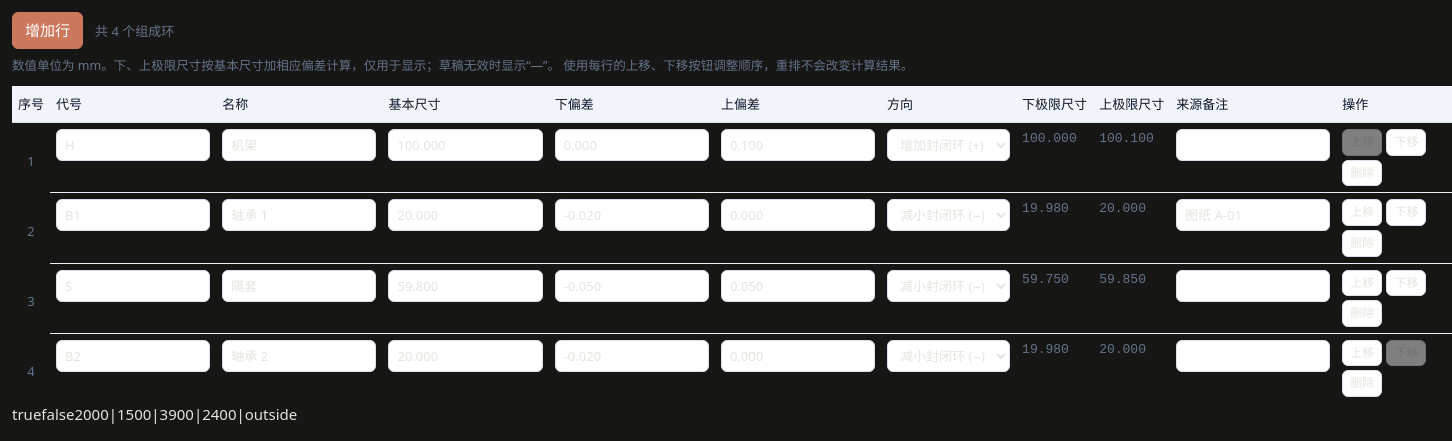
Scenario: DimensionTable：方向、重排与确认状态 › 修改基本尺寸等数值会清除关系确认
Replace the text in the field named "H 上偏差" with "0.0300": (798, 145) [721,129,875,161]
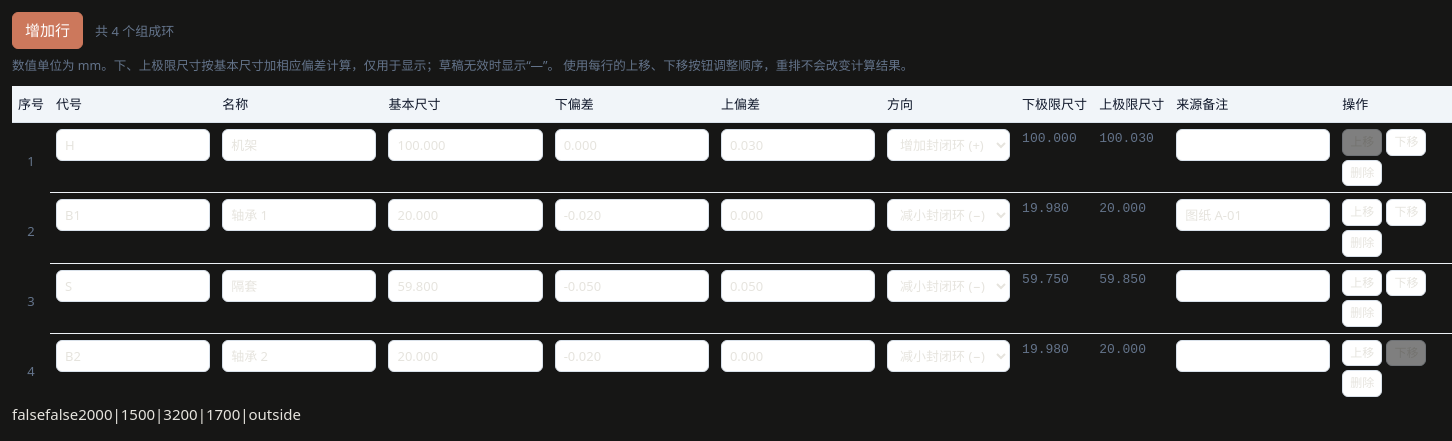
expect the text with test id "stale" reads "false": met, box [45,404,78,424]
expect the text with test id "relation-confirmed" reads "false": met, box [12,404,45,424]
